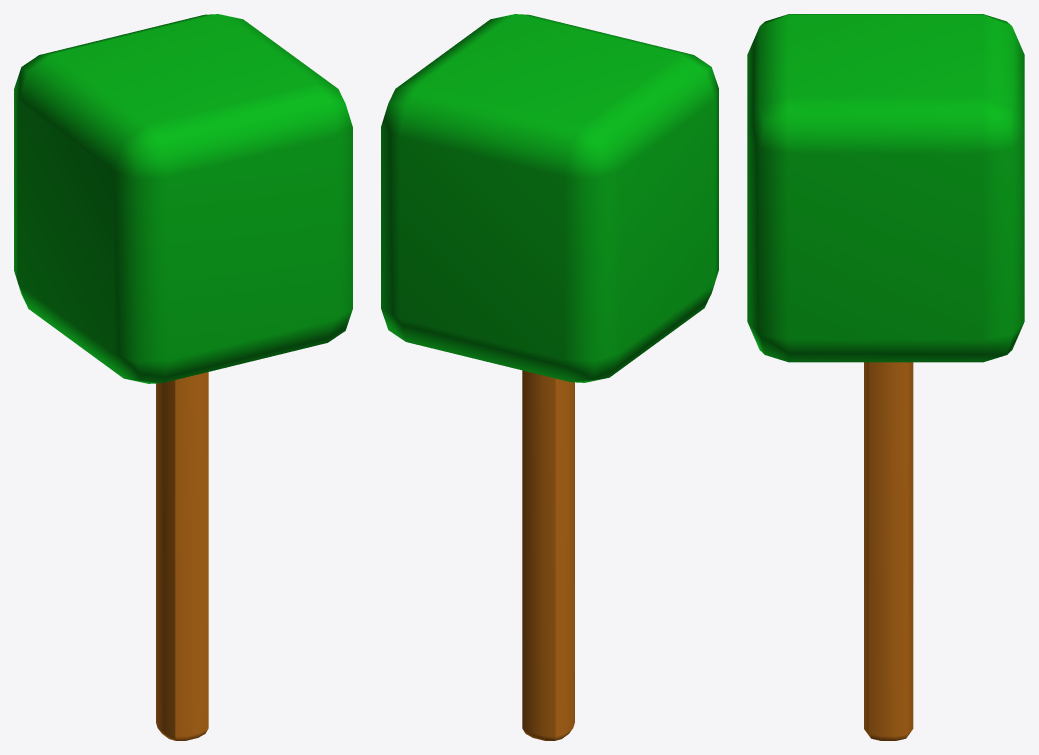
The model's file is tree_geo.fbx.
3 renders of one model, left to right at view 1: azimuth 30°, elevation 25°; view 2: azimuth 150°, elevation 25°; view 3: azimuth 270°, elevation 25°, orthographic. The views are drawn at different scales.
Parts seen in each view (by area): view 1: polySurface1; view 2: polySurface1; view 3: polySurface1.
Boxes of the visible parts, box(x1,y1,x2,y2) form: polySurface1: box(14, 14, 352, 740); polySurface1: box(381, 14, 718, 740); polySurface1: box(747, 14, 1024, 740).
Bounding box in the file's own units: 2.15 × 5.83 × 2.15.
